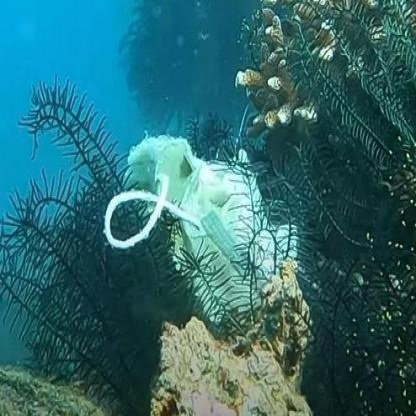plastic: (107, 113, 291, 304)
